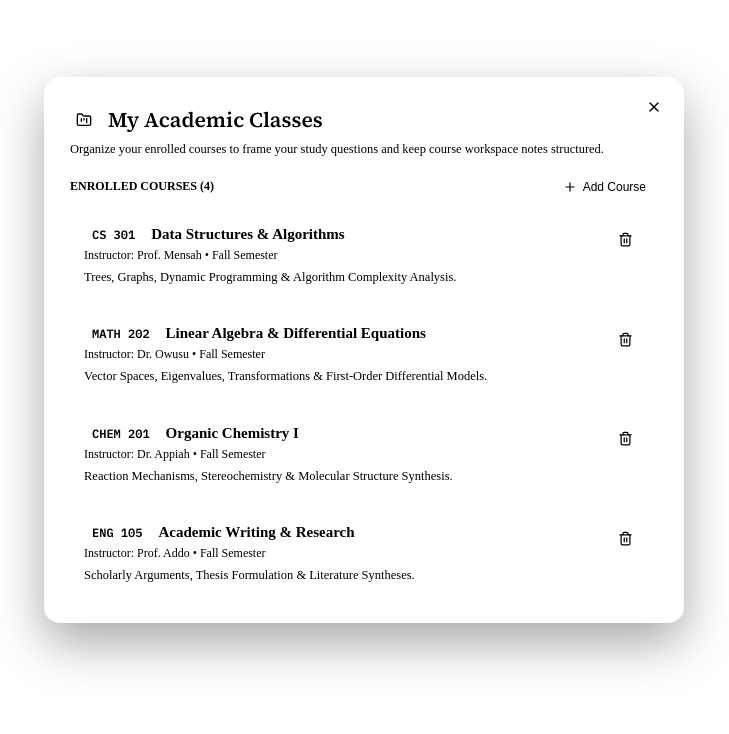
Test: ClassesModal Component › renders course list and allows adding a new class
The width and height of the screenshot is (729, 734).
Check: the heading "My Academic Classes" is shown, box left=108, top=105, right=323, bottom=134
Check: the text "CS 301" is shown, box left=92, top=227, right=135, bottom=242
Click the button "Add Course" at (604, 187), box left=551, top=175, right=658, bottom=199
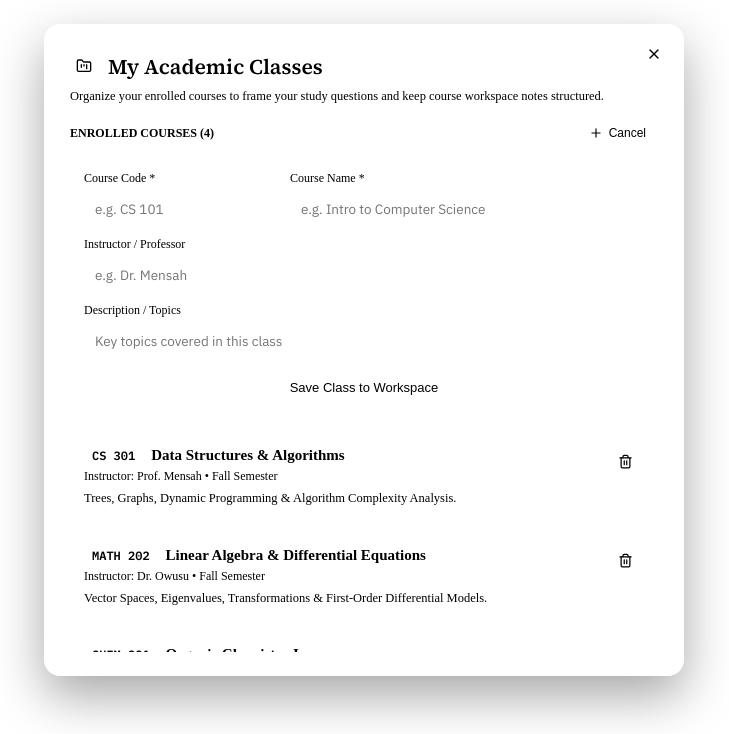
Check: the button "Save Class to Workspace" is shown, box left=84, top=373, right=644, bottom=402
